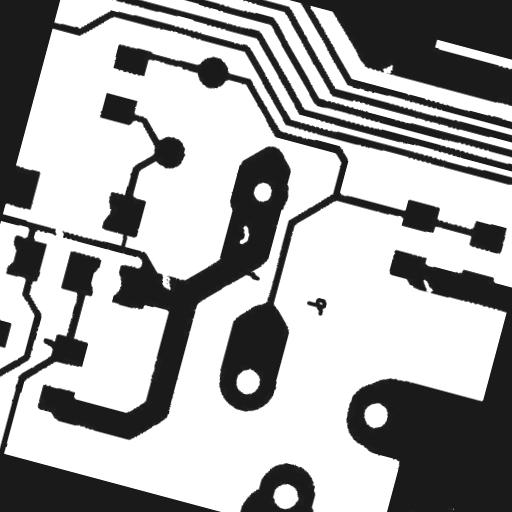copper: (294, 285, 336, 325)
mousebite: (148, 262, 182, 299), (410, 270, 444, 305), (372, 53, 402, 84)
open: (43, 217, 73, 249)
pin-hole: (229, 216, 259, 254)
short: (108, 224, 136, 260)
spur: (231, 258, 269, 290), (32, 328, 67, 358)
